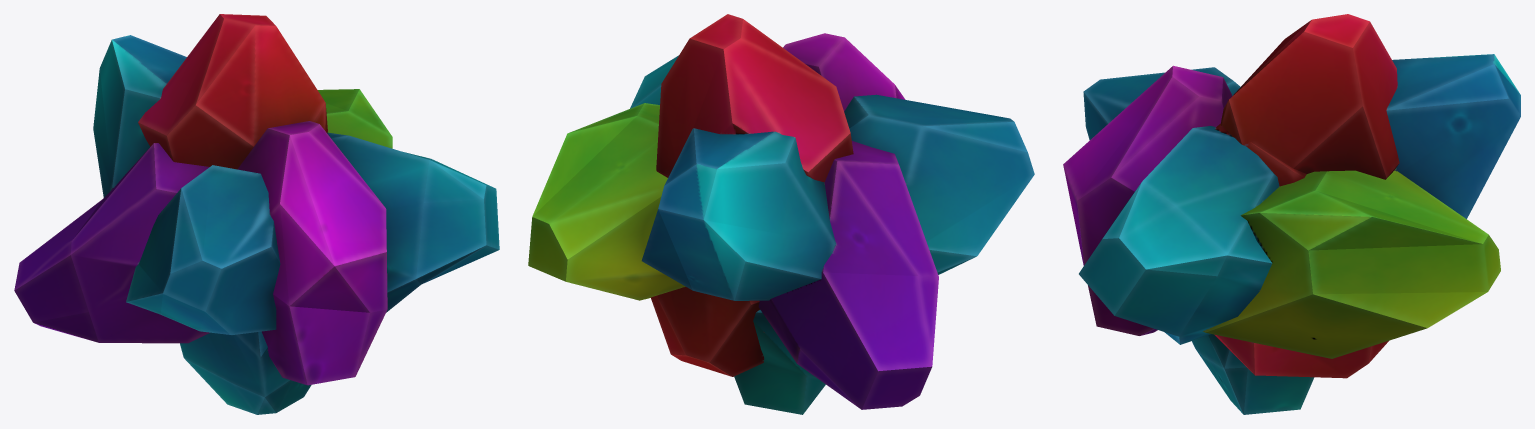
File: Shard.fbx
The picture shows the model from 3 angles, left to right: view 1: azimuth 30°, elevation 25°; view 2: azimuth 150°, elevation 25°; view 3: azimuth 270°, elevation 25°; orthographic projection. The views are drawn at different scales.
Parts seen in each view (by area): view 1: Shard; view 2: Shard; view 3: Shard.
Boxes of the visible parts, <box> form: Shard: <box>14,14,499,414</box>; Shard: <box>528,14,1034,414</box>; Shard: <box>1063,14,1520,414</box>.
Size of the model in its own units: 2.68 by 2.48 by 2.62.
